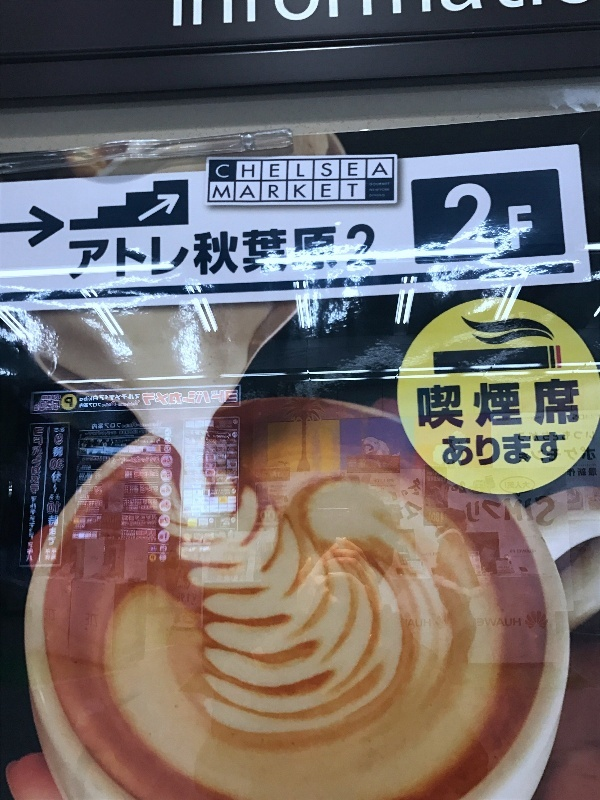text: (34, 427, 48, 562), (81, 422, 96, 545), (97, 422, 112, 545), (113, 422, 128, 545), (129, 422, 144, 545), (145, 422, 160, 545), (161, 422, 173, 545), (54, 427, 64, 562), (449, 180, 464, 259), (465, 180, 480, 259), (481, 180, 496, 259), (497, 180, 512, 259), (513, 180, 528, 259), (81, 224, 96, 283), (97, 224, 112, 283), (113, 224, 128, 283), (129, 224, 144, 283), (145, 224, 160, 283), (161, 224, 176, 283), (177, 224, 192, 283), (193, 224, 208, 283), (209, 224, 224, 283), (225, 224, 240, 283), (241, 224, 256, 283), (257, 224, 272, 283), (273, 224, 288, 283), (289, 224, 304, 283), (305, 224, 320, 283), (321, 224, 336, 283), (337, 224, 352, 283), (353, 224, 368, 283), (417, 378, 432, 433), (433, 378, 448, 433), (449, 378, 464, 433), (465, 378, 480, 433), (481, 378, 496, 433), (497, 378, 512, 433), (513, 378, 528, 433), (529, 378, 544, 433), (545, 378, 560, 433), (561, 378, 576, 433), (529, 432, 544, 479), (545, 432, 560, 479), (561, 432, 576, 479), (577, 432, 592, 479), (401, 477, 416, 520), (70, 224, 80, 283), (449, 432, 464, 466), (465, 432, 480, 466), (481, 432, 496, 466), (497, 432, 512, 466), (513, 432, 528, 466), (529, 432, 544, 466), (545, 432, 560, 466), (529, 180, 535, 259), (518, 432, 528, 479), (481, 497, 496, 527), (497, 497, 512, 527), (513, 497, 528, 527), (529, 497, 544, 527), (369, 224, 376, 283), (177, 1, 192, 27), (193, 1, 208, 27), (209, 1, 224, 27), (225, 1, 240, 27), (241, 1, 256, 27), (257, 1, 272, 27), (273, 1, 288, 27), (289, 1, 304, 27), (305, 1, 320, 27), (321, 1, 336, 27), (337, 1, 352, 27), (353, 1, 368, 27), (369, 1, 384, 27), (385, 1, 400, 27), (401, 1, 416, 27), (417, 1, 432, 27), (433, 1, 448, 27), (449, 1, 464, 27), (465, 1, 480, 27), (481, 1, 496, 27), (497, 1, 512, 27), (513, 1, 528, 27), (529, 1, 544, 27), (545, 1, 560, 27), (561, 1, 576, 27), (467, 497, 480, 527), (49, 390, 64, 414), (65, 390, 80, 414), (81, 390, 96, 414), (97, 390, 112, 414), (113, 390, 128, 414), (129, 390, 144, 414), (145, 390, 160, 414), (161, 390, 176, 414), (177, 390, 192, 414), (193, 390, 208, 414), (209, 390, 224, 414), (193, 420, 208, 443), (209, 420, 224, 443), (34, 390, 48, 414), (577, 1, 589, 27), (545, 497, 555, 527), (225, 420, 238, 443), (225, 390, 237, 414), (225, 162, 240, 178), (241, 162, 256, 178), (257, 162, 272, 178), (273, 162, 288, 178), (289, 162, 304, 178), (305, 162, 320, 178), (321, 162, 336, 178), (337, 162, 352, 178), (353, 162, 368, 178), (369, 162, 384, 178), (445, 180, 448, 259), (225, 184, 240, 199), (241, 184, 256, 199), (257, 184, 272, 199), (273, 184, 288, 199), (289, 184, 304, 199), (305, 184, 320, 199), (321, 184, 336, 199), (337, 184, 352, 199), (577, 378, 581, 433), (417, 477, 422, 520), (593, 432, 597, 479), (443, 432, 448, 466), (417, 618, 432, 629), (433, 618, 448, 629), (449, 618, 464, 629), (465, 618, 480, 629), (481, 618, 496, 629), (497, 618, 512, 629), (257, 470, 272, 481), (273, 470, 288, 481), (433, 471, 446, 483), (214, 184, 224, 199), (186, 420, 192, 443), (561, 432, 565, 466), (513, 481, 528, 490), (353, 460, 368, 469), (369, 460, 384, 469), (65, 427, 66, 562), (216, 162, 224, 178), (79, 422, 80, 545), (385, 460, 398, 469), (433, 512, 440, 525), (408, 618, 416, 629), (513, 618, 521, 629), (353, 184, 358, 199), (513, 550, 528, 554), (427, 471, 432, 483), (374, 478, 384, 484), (370, 188, 384, 192), (385, 478, 394, 484), (385, 162, 388, 178), (370, 183, 384, 186), (370, 194, 384, 197), (429, 512, 432, 525), (508, 481, 512, 490), (529, 550, 537, 554), (349, 460, 352, 469), (175, 1, 176, 27), (385, 188, 389, 192), (385, 183, 390, 186), (289, 470, 290, 481), (529, 481, 530, 490), (510, 550, 512, 554)
